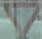Give way: (2, 2, 39, 38)
